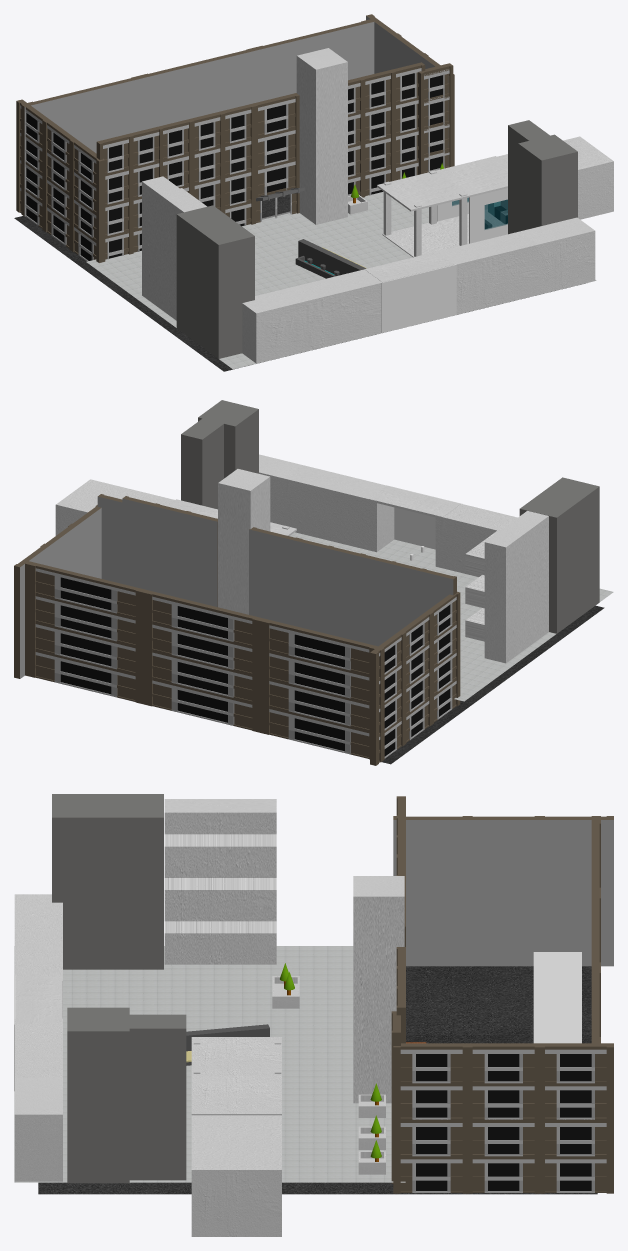
File: Level_0.fbx
3 renders of one model, top to bottom at view 1: azimuth 30°, elevation 25°; view 2: azimuth 150°, elevation 25°; view 3: azimuth 270°, elevation 25°, orthographic. The views are drawn at different scales.
Visible parts, largest first — view 1: pCone9, polySurface30, polySurface46; view 2: pCone9, polySurface30, polySurface46; view 3: pCone9, polySurface30, polySurface46.
Boxes of the visible parts, x1=… form: pCone9: x1=16, y1=14, x2=613, y2=363; polySurface30: x1=86, y1=191, x2=596, y2=369; polySurface46: x1=14, y1=194, x2=585, y2=371; pCone9: x1=14, y1=400, x2=599, y2=765; polySurface30: x1=290, y1=532, x2=613, y2=701; polySurface46: x1=36, y1=605, x2=604, y2=764; pCone9: x1=14, y1=794, x2=613, y2=1236; polySurface30: x1=14, y1=946, x2=405, y2=1182; polySurface46: x1=38, y1=966, x2=597, y2=1194.
Size of the model in its own units: 619 by 221 by 539.
Materials: 20 (4 with a texture image).
